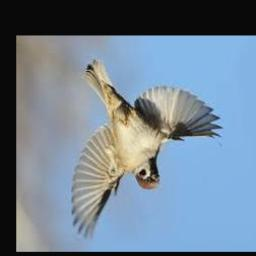Sparrow: (72, 58, 223, 241)
